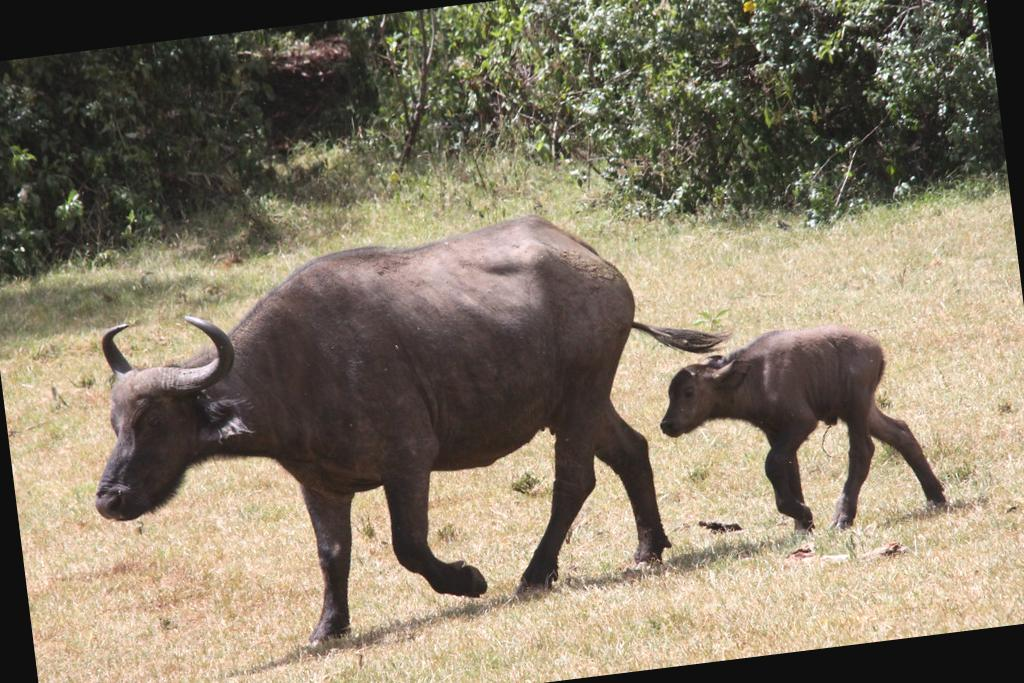Buffalo: (159, 196, 659, 662)
